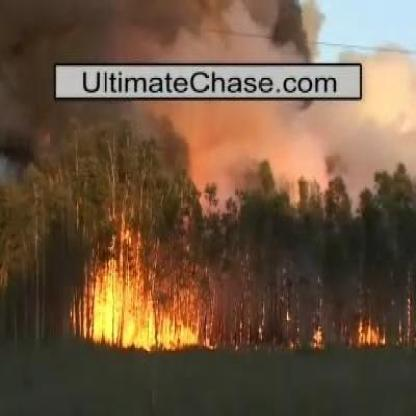-: (46, 1, 324, 64)
foggia-v2-map80-epoch100 - v1 4323: (90, 269, 166, 344)
